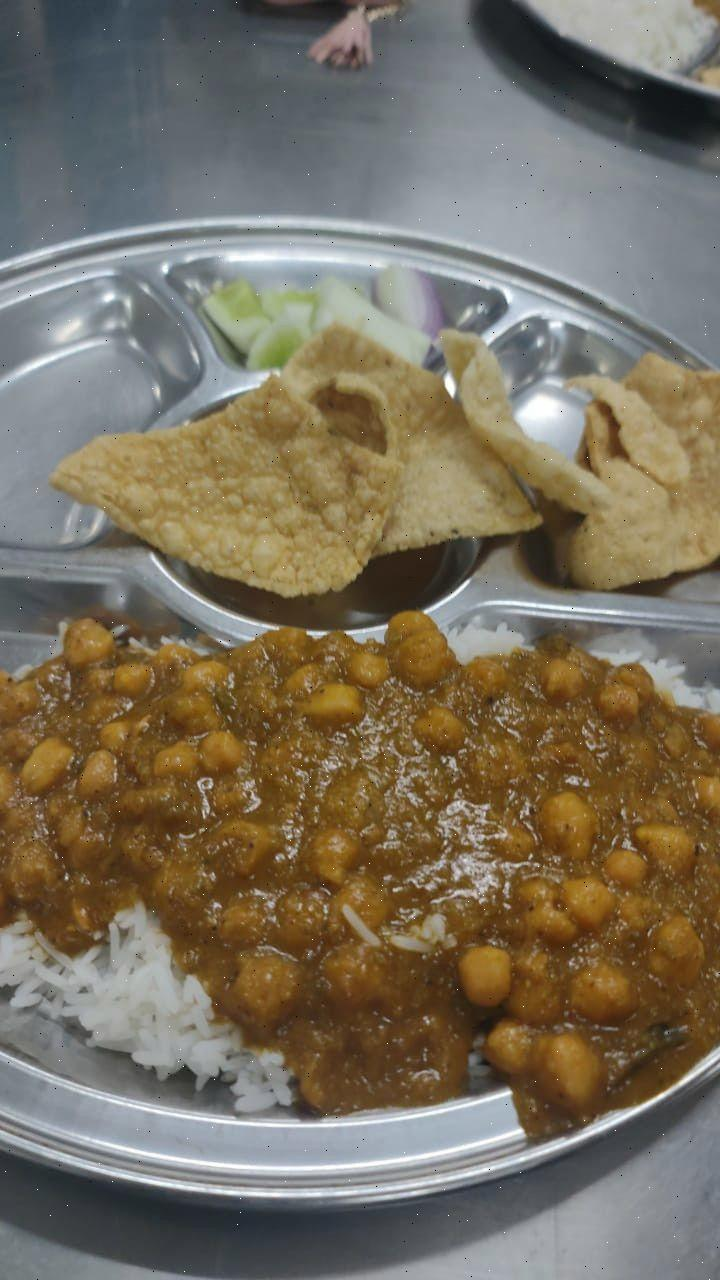chole: (3, 611, 720, 950)
salad: (197, 238, 441, 357)
